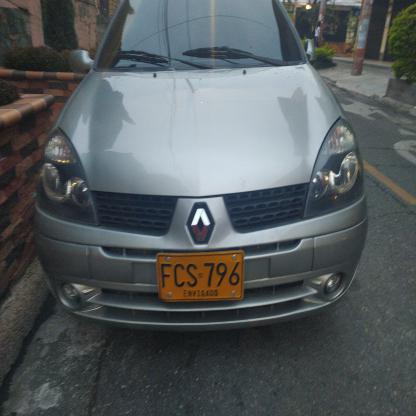placa: (151, 247, 248, 306)
